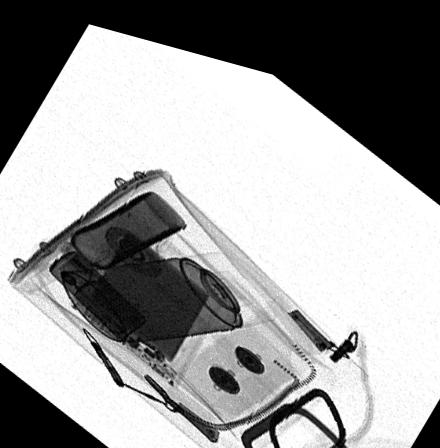Lighter: (47, 245, 147, 335)
Powerbank: (70, 201, 229, 380)
Sprayer: (58, 238, 274, 336)
